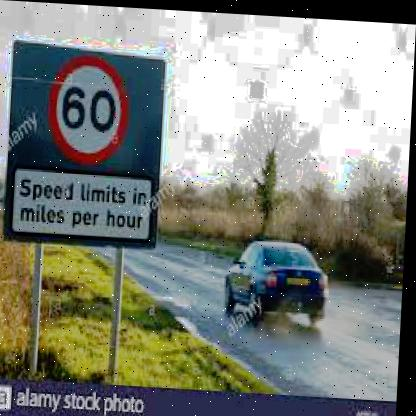Speed Limit -60-: (45, 52, 134, 165)
